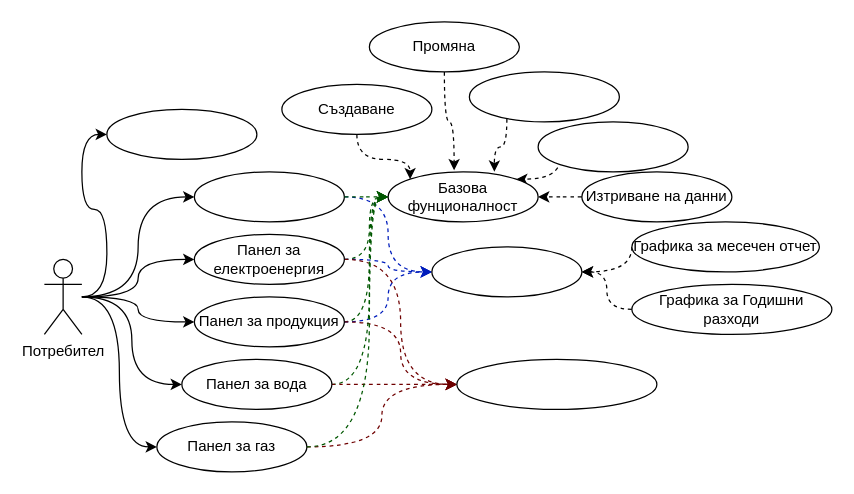
This 854x494 diagram has some shape labels left out. Here are the shapes that lost their labels. From the top down, the box of each, then its label:
(468, 71, 619, 122): Справки
(106, 108, 257, 159): Вход
(537, 121, 688, 172): Изтриване на обект
(193, 171, 344, 222): Панел за статистики
(431, 246, 582, 297): Базови графики
(456, 358, 657, 409): Последно въвеждани данни
